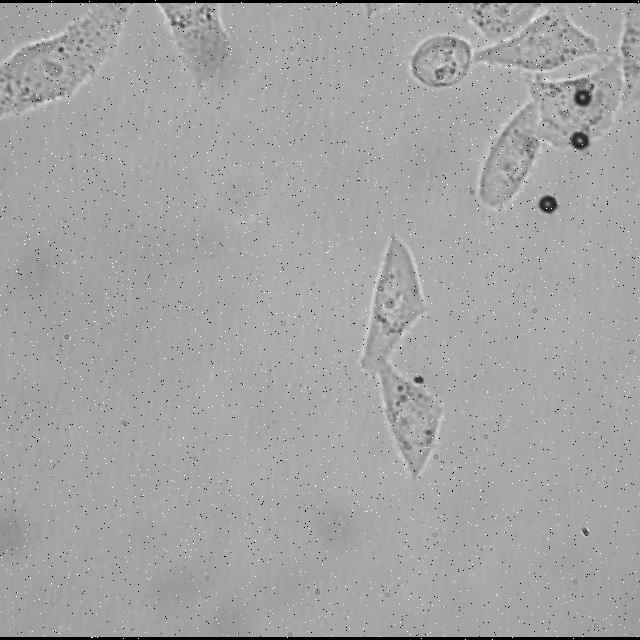microbeads: (572, 86, 594, 108), (539, 195, 559, 215), (573, 130, 593, 150)
